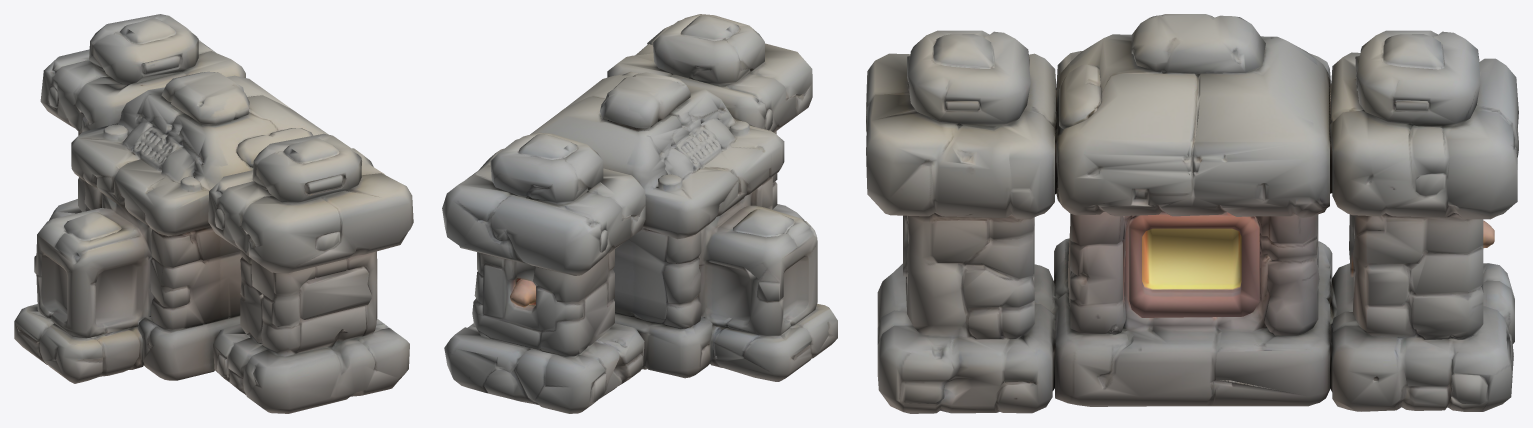
File: stone_lantern_barrier.glb
3 renders of one model, left to right at view 1: azimuth 30°, elevation 25°; view 2: azimuth 150°, elevation 25°; view 3: azimuth 270°, elevation 25°, orthographic. The views are drawn at different scales.
Parts seen in each view (by area): view 1: tripo_node_cc662f17-1e85-4c7f-91dd-aab6c7afe838; view 2: tripo_node_cc662f17-1e85-4c7f-91dd-aab6c7afe838; view 3: tripo_node_cc662f17-1e85-4c7f-91dd-aab6c7afe838.
Part boxes in pixels (box(x1,y1,x2,y2)): tripo_node_cc662f17-1e85-4c7f-91dd-aab6c7afe838: box(14, 14, 413, 413); tripo_node_cc662f17-1e85-4c7f-91dd-aab6c7afe838: box(442, 14, 837, 413); tripo_node_cc662f17-1e85-4c7f-91dd-aab6c7afe838: box(866, 14, 1518, 413).
Bounding box in the file's own units: 0.6426 × 0.5645 × 0.998.
1 material, 1 textured.
